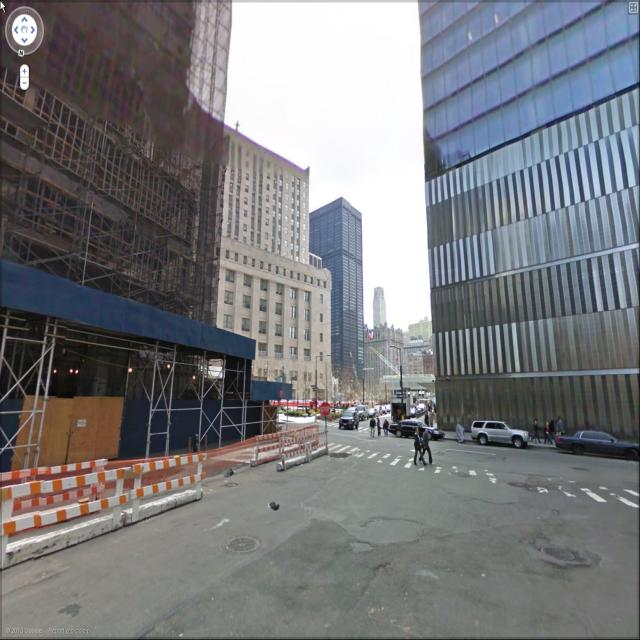b_1: (420, 4, 640, 415), (0, 1, 242, 364), (203, 147, 333, 387), (314, 195, 378, 393), (365, 278, 406, 384)
